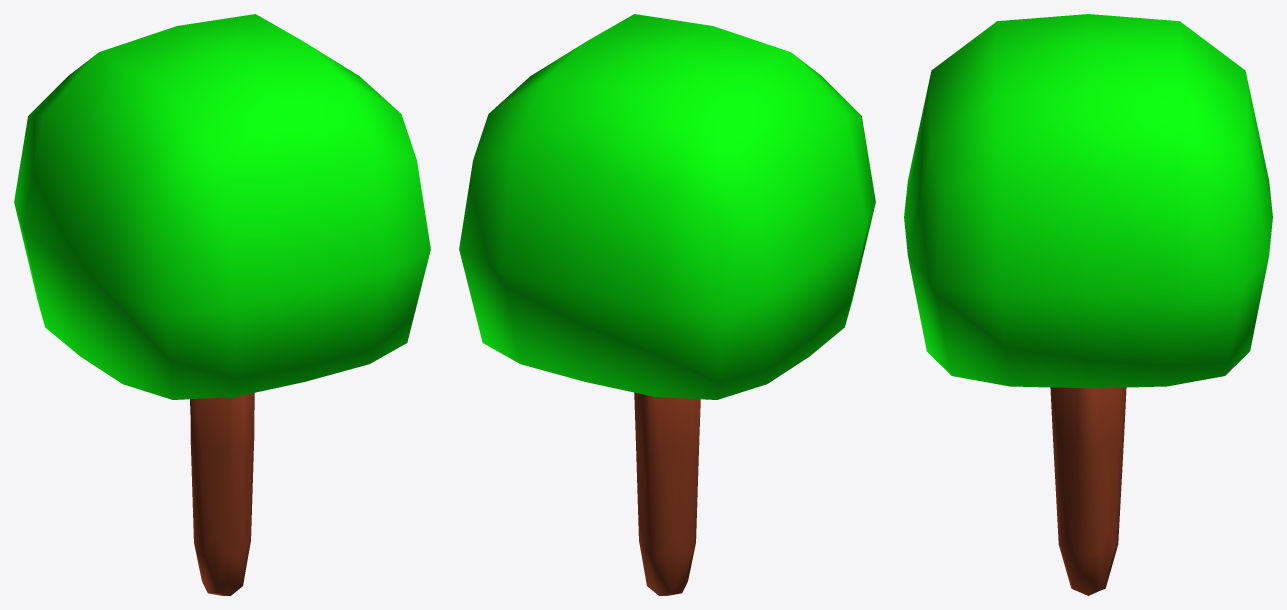
Rendered from round_tree.fbx.
The picture shows the model from 3 angles, left to right: view 1: azimuth 30°, elevation 25°; view 2: azimuth 150°, elevation 25°; view 3: azimuth 270°, elevation 25°; orthographic projection.
Parts seen in each view (by area): view 1: round_tree; view 2: round_tree; view 3: round_tree.
Boxes of the visible parts, x1,y1,x2,y2 form: round_tree: (14, 14, 430, 595); round_tree: (459, 14, 875, 595); round_tree: (904, 14, 1272, 595).
Size of the model in its own units: 430 by 707 by 430.
